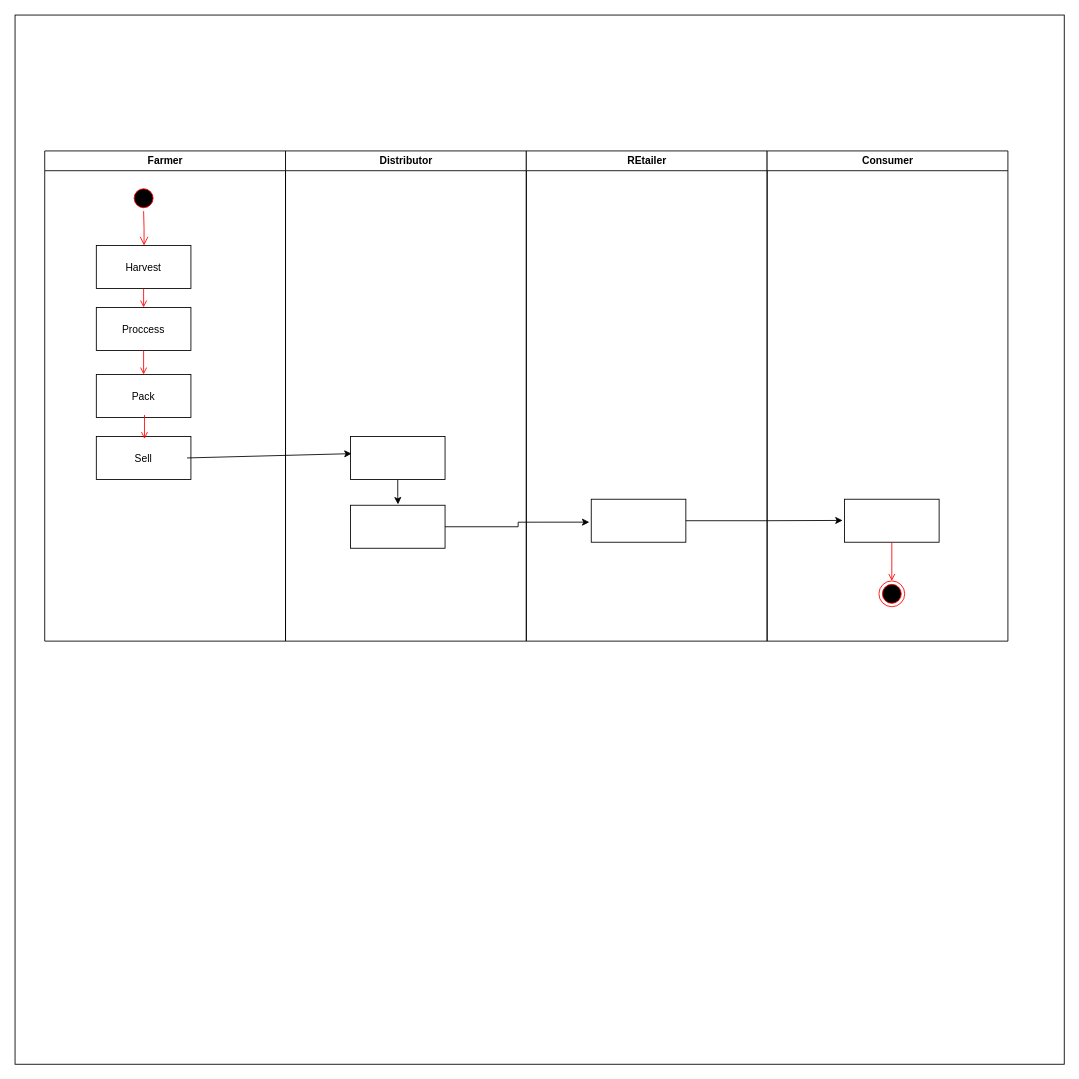
Image size: 1079x1079. Some labels were removed from this diagram. Here are the shapes that lost their labels. From the top down, the centre of each, then its label:
At point (397, 457): "Buy".
At point (397, 526): "Ship".
At point (638, 520): "Receive".
At point (891, 520): "Purchase".
